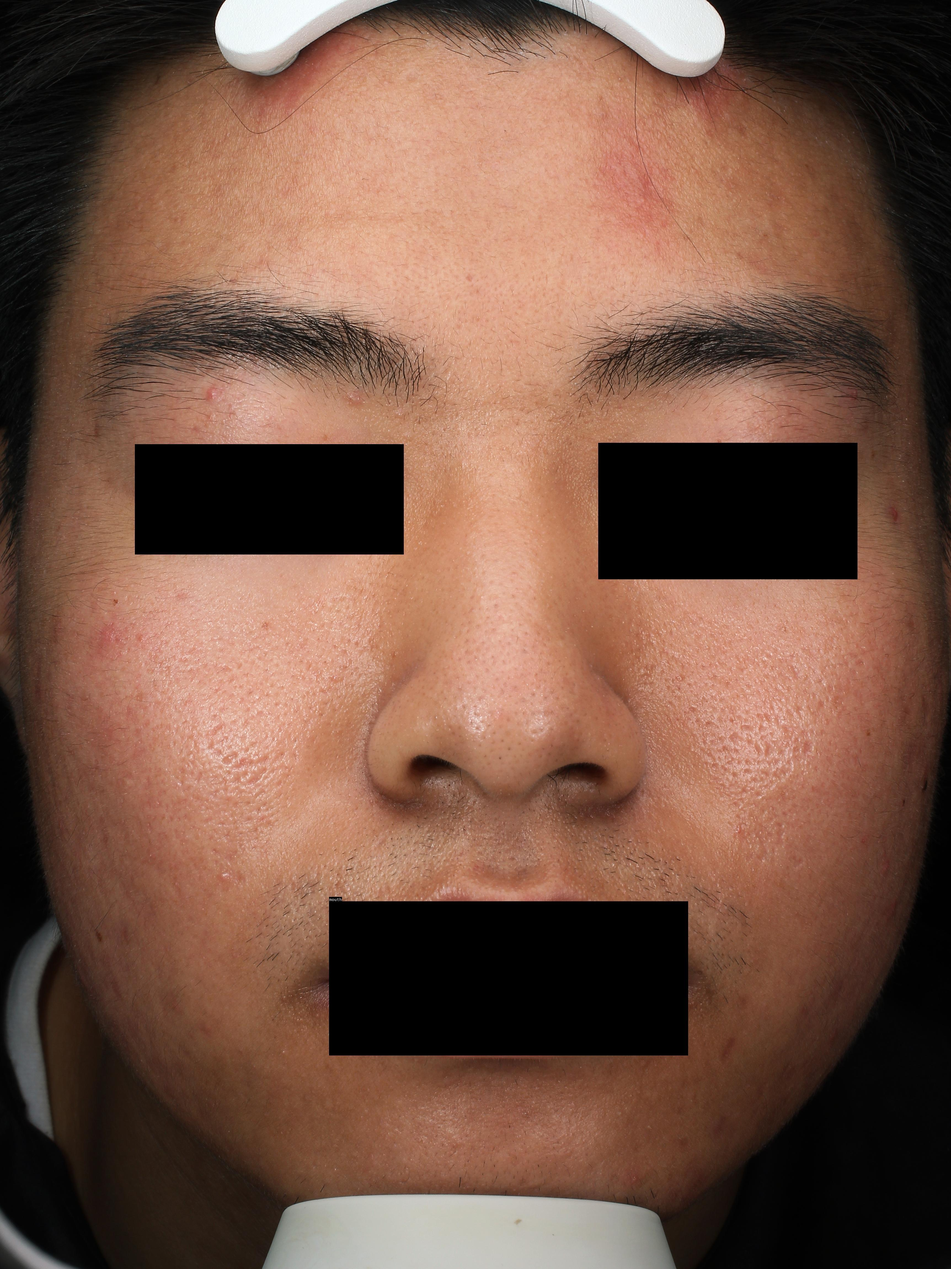atrophic_scar: (238, 767, 267, 789), (755, 832, 770, 865), (721, 1036, 738, 1063), (370, 830, 392, 849), (919, 693, 932, 724), (808, 700, 825, 722), (728, 730, 747, 749), (212, 662, 233, 679), (205, 720, 227, 736), (561, 675, 576, 697), (764, 740, 779, 761), (222, 750, 241, 766), (230, 758, 256, 769), (801, 739, 814, 760), (789, 663, 804, 681), (191, 768, 204, 788), (789, 854, 804, 871), (776, 824, 786, 848), (231, 870, 247, 885), (170, 796, 188, 809), (211, 746, 226, 761), (327, 674, 346, 685), (404, 70, 418, 84), (754, 739, 765, 756), (201, 815, 215, 827), (794, 705, 804, 721), (206, 737, 217, 751), (739, 724, 755, 733), (688, 706, 700, 717), (758, 723, 769, 734), (173, 827, 183, 839), (304, 660, 313, 673), (135, 690, 144, 702), (146, 667, 156, 676), (507, 855, 519, 862), (211, 848, 220, 857), (465, 273, 473, 283), (728, 821, 737, 829), (744, 769, 754, 776), (855, 659, 865, 666), (146, 821, 151, 828), (183, 814, 187, 820)
closed_comedo: (396, 410, 404, 419), (639, 196, 647, 204), (728, 168, 736, 175), (709, 254, 715, 263), (312, 1012, 319, 1018), (382, 79, 389, 85), (461, 460, 466, 468), (311, 107, 316, 113), (439, 77, 444, 82), (281, 1049, 285, 1055)
nevus: (95, 929, 105, 944), (259, 620, 270, 633), (111, 598, 119, 607), (865, 728, 872, 737), (902, 798, 907, 807)
open_comedo: (600, 111, 606, 119), (676, 675, 682, 682), (697, 701, 703, 708), (739, 179, 743, 183)
papule: (205, 388, 218, 401), (888, 902, 898, 918), (348, 394, 360, 406), (136, 632, 146, 644), (829, 1030, 838, 1043), (882, 860, 891, 872), (890, 509, 899, 521), (628, 1174, 639, 1183), (220, 872, 229, 881)
pustule: (849, 389, 857, 400)
